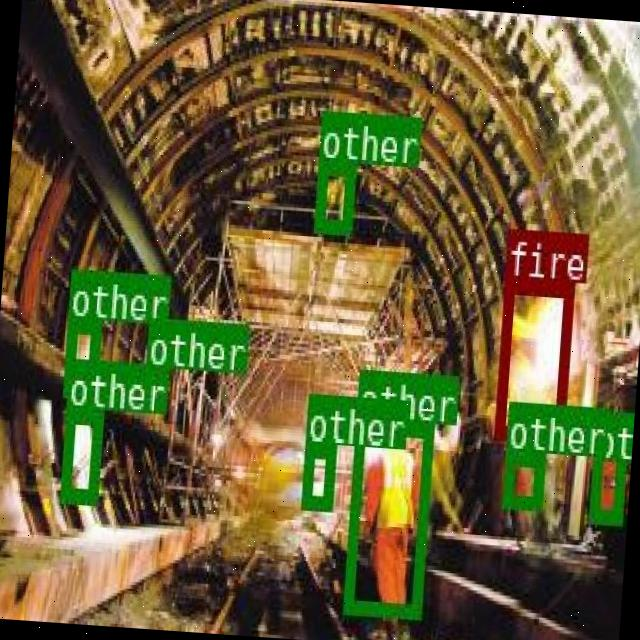fire: (492, 275, 572, 441)
